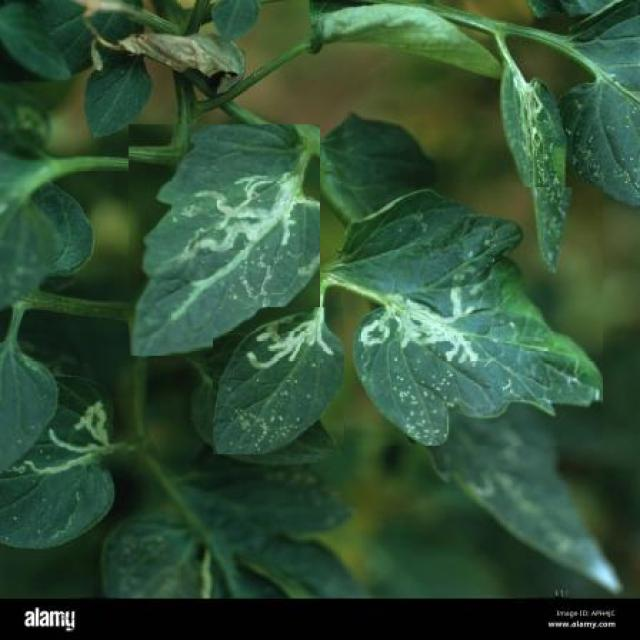Leaf Miner: (346, 187, 603, 446), (129, 124, 320, 356), (213, 307, 344, 454)
